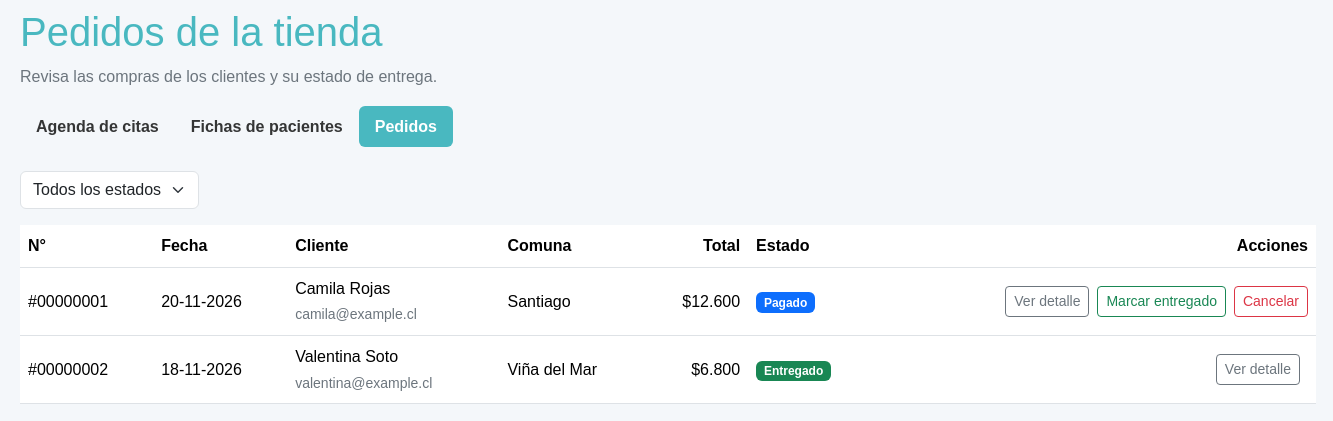
Test: GestionPedidos › filtra por estado
Select "Entregado" in the dropdown named "Filtrar por estado" at (110,190), box [20,171,199,209]
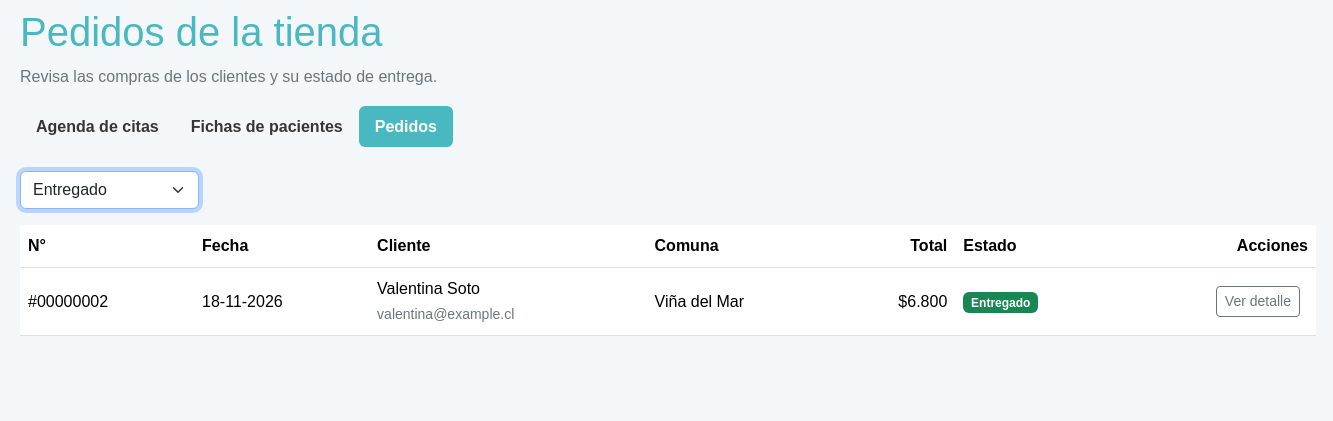
Expected: the text "#00000002" is shown, [20,267,194,336]
Result: the text "#00000001" is gone
